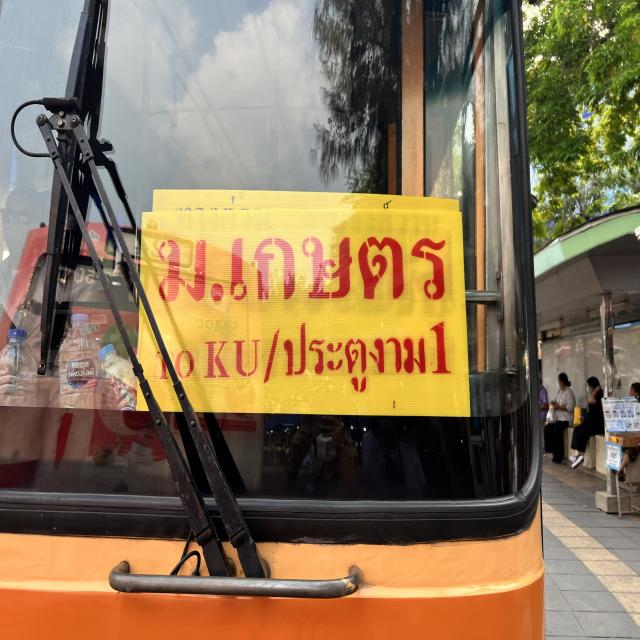BMTA-bus: (0, 0, 547, 640)
Destination-Sign-Extra-Bus-Expressway: (140, 215, 471, 413)
